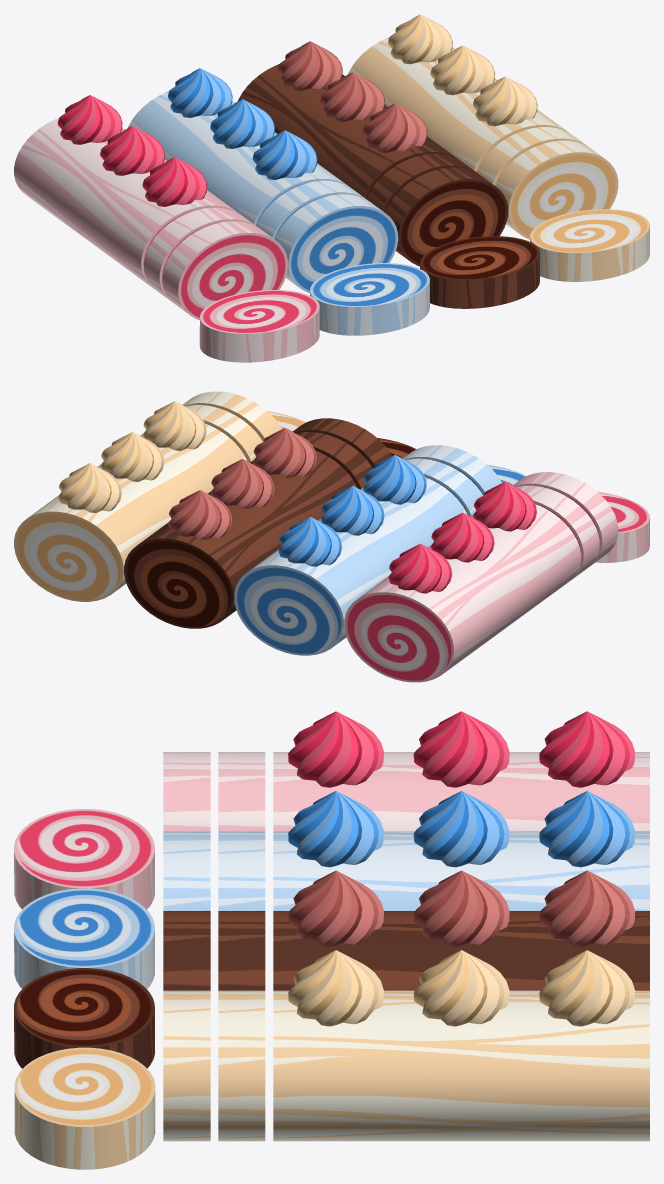
Rendered from maya2sketchfab.fbx.
The picture shows the model from 3 angles, top to bottom: view 1: azimuth 30°, elevation 25°; view 2: azimuth 150°, elevation 25°; view 3: azimuth 270°, elevation 25°; orthographic projection. The views are drawn at different scales.
Visible parts, largest first — view 1: Swiss_roll (×4), Slice (×4); view 2: Swiss_roll (×4), Slice; view 3: Swiss_roll (×4), Slice (×4).
Boxes of the visible parts, left/top/right/bottom form: Swiss_roll (×4): left=14, top=14, right=618, bottom=320; Slice (×4): left=199, top=209, right=649, bottom=362; Swiss_roll (×4): left=14, top=391, right=618, bottom=682; Slice: left=596, top=491, right=649, bottom=562; Swiss_roll (×4): left=163, top=711, right=649, bottom=1141; Slice (×4): left=14, top=809, right=155, bottom=1169.
Bounding box in the file's own units: 95.94 × 25.31 × 81.05.
Materials: 12 (12 with a texture image).
